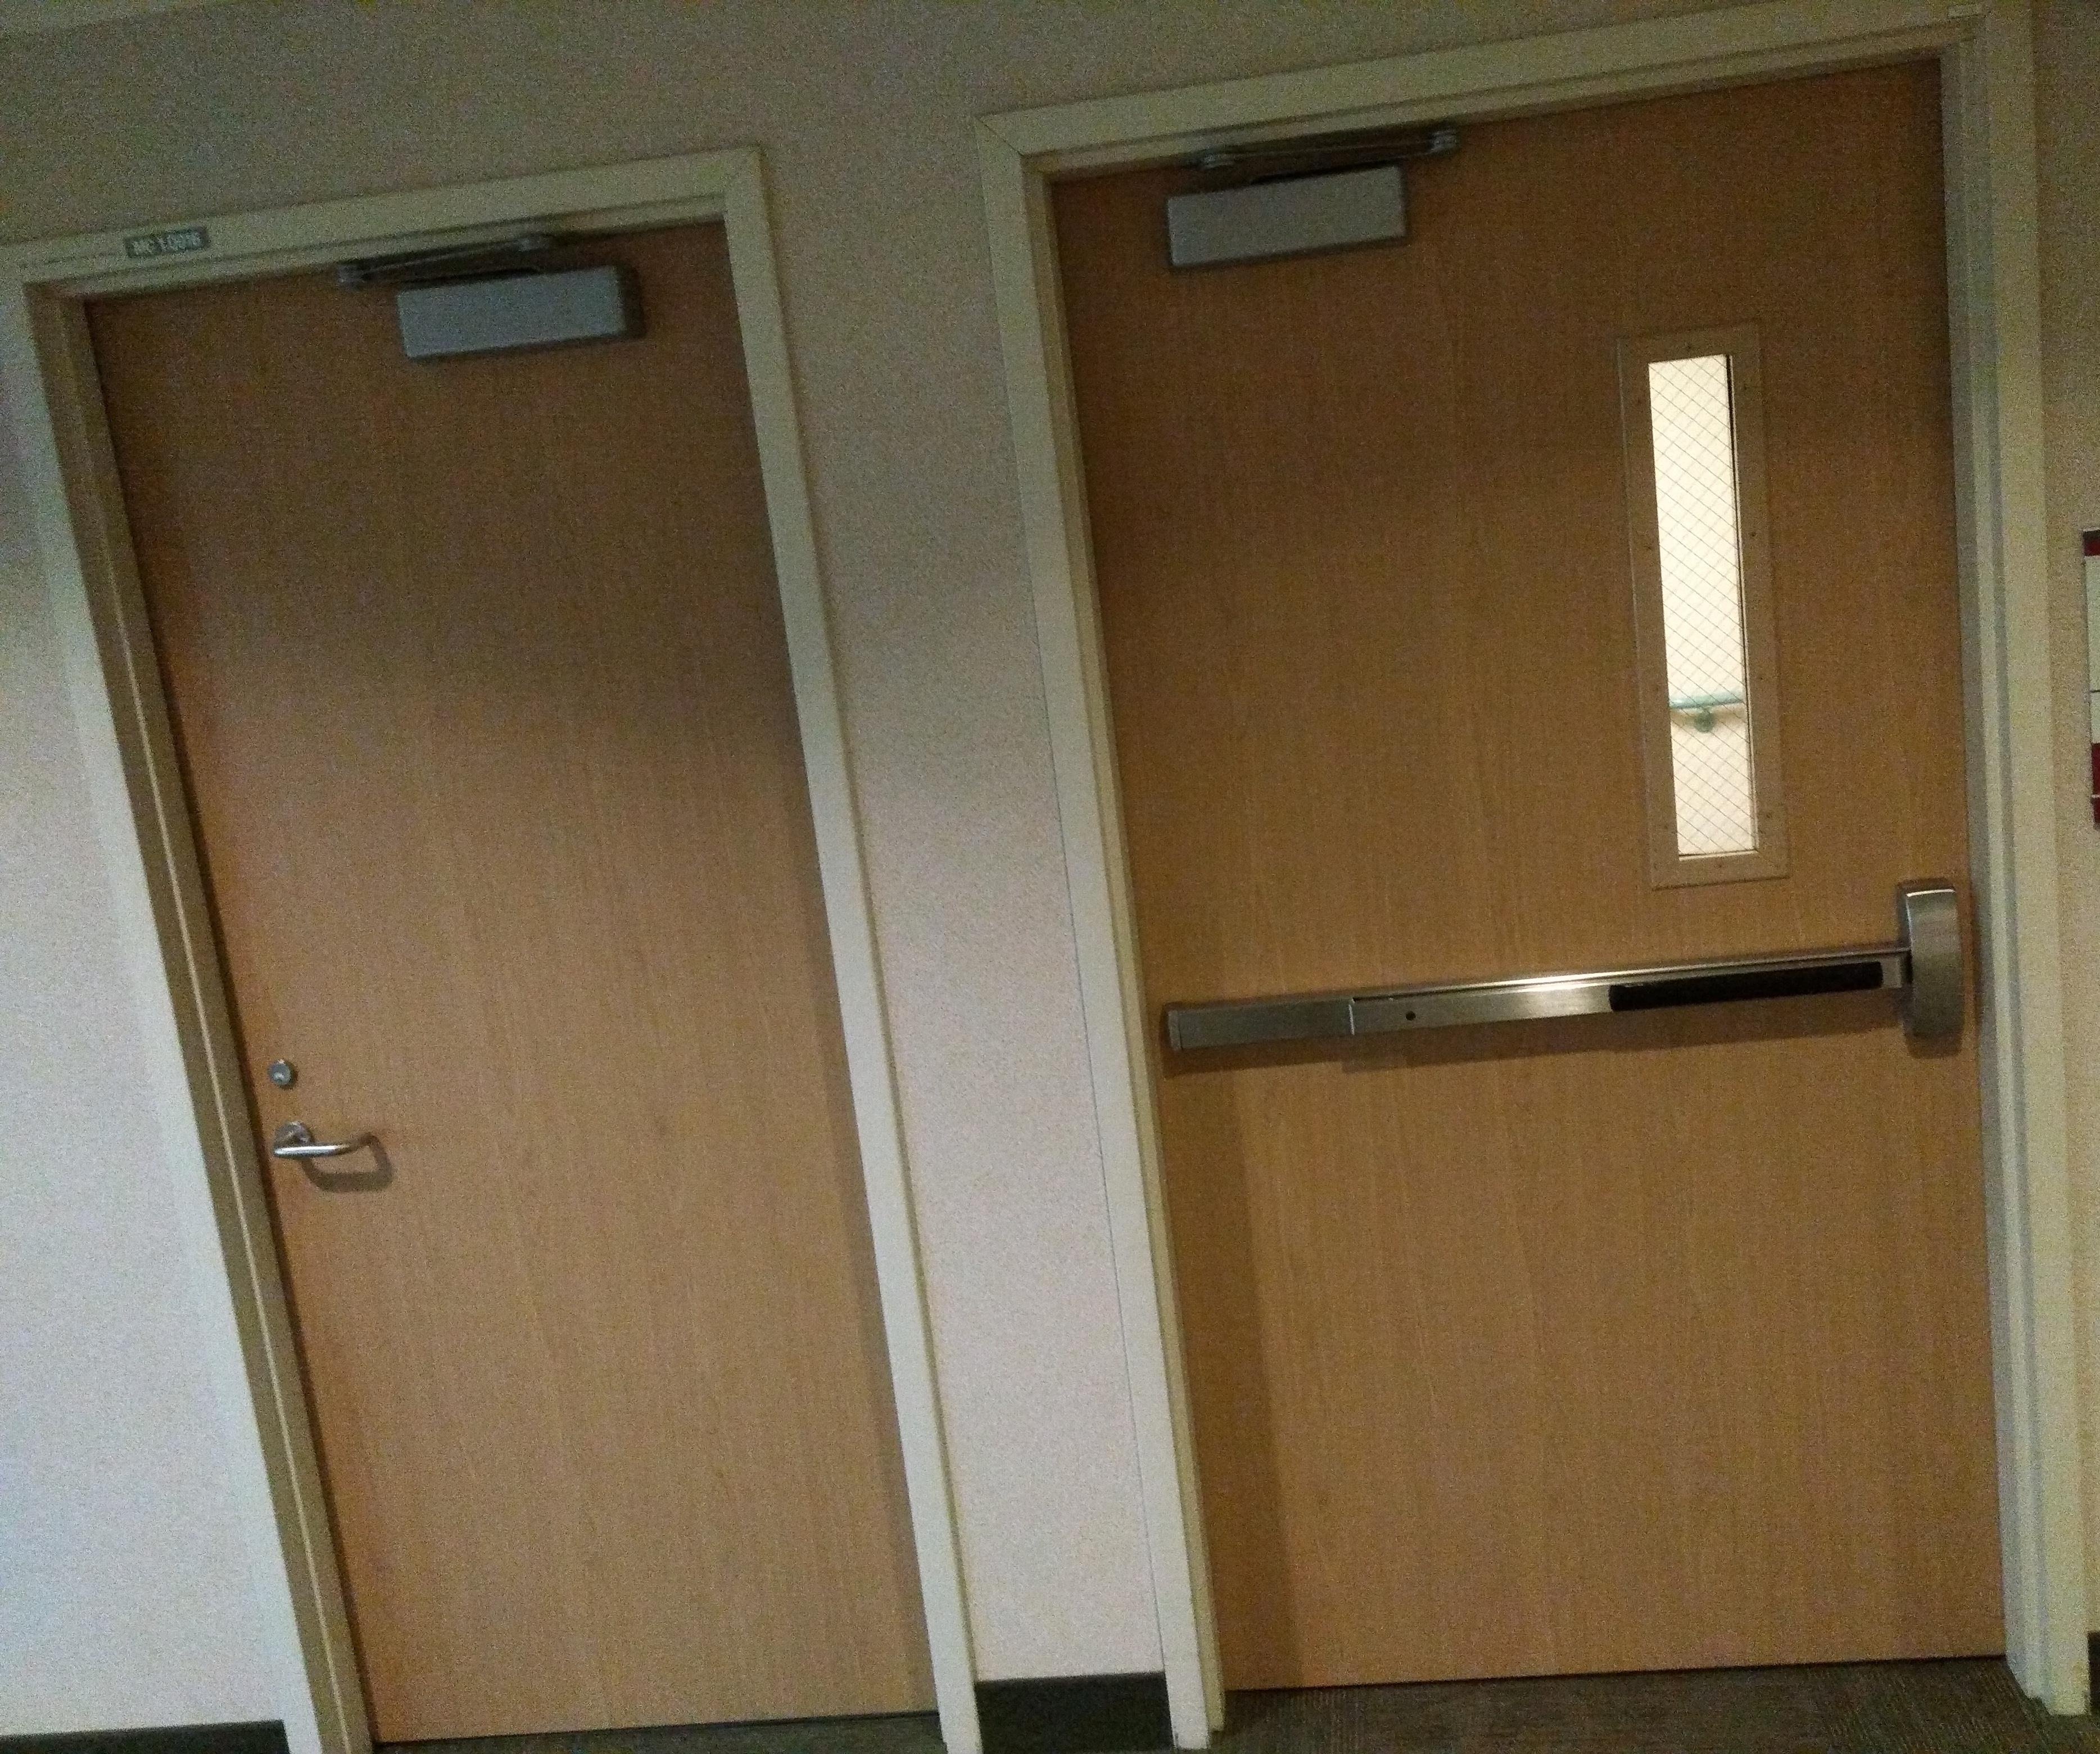door: (1052, 92, 2037, 1632), (23, 264, 970, 1712)
